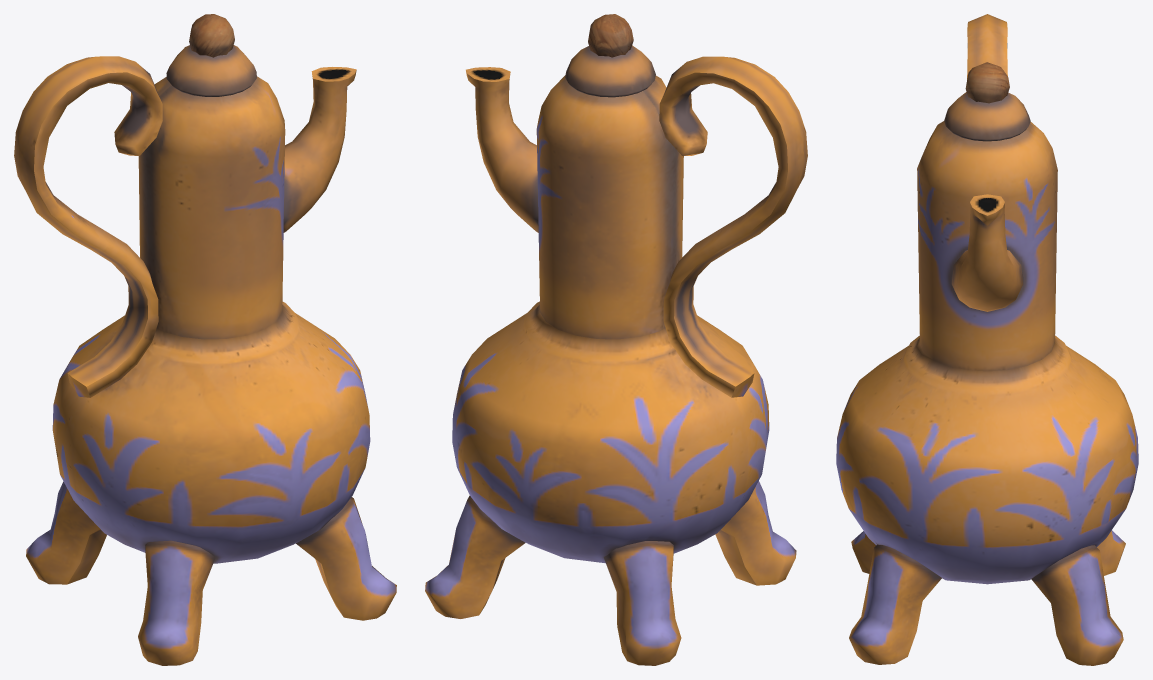
Rendered from SM_Potion_Props_Jug_01.fbx.
The picture shows the model from 3 angles, left to right: view 1: azimuth 30°, elevation 25°; view 2: azimuth 150°, elevation 25°; view 3: azimuth 270°, elevation 25°; orthographic projection. The views are drawn at different scales.
Visible parts, largest first — view 1: SM_Potion_Props_Jug_01_LOD0; view 2: SM_Potion_Props_Jug_01_LOD0; view 3: SM_Potion_Props_Jug_01_LOD0.
Boxes of the visible parts, x1,y1,x2,y2 form: SM_Potion_Props_Jug_01_LOD0: [14, 14, 396, 665]; SM_Potion_Props_Jug_01_LOD0: [425, 14, 807, 665]; SM_Potion_Props_Jug_01_LOD0: [836, 14, 1138, 665].
Size of what is drawn, in the model's own units: 20.91 by 34.14 by 17.09.
